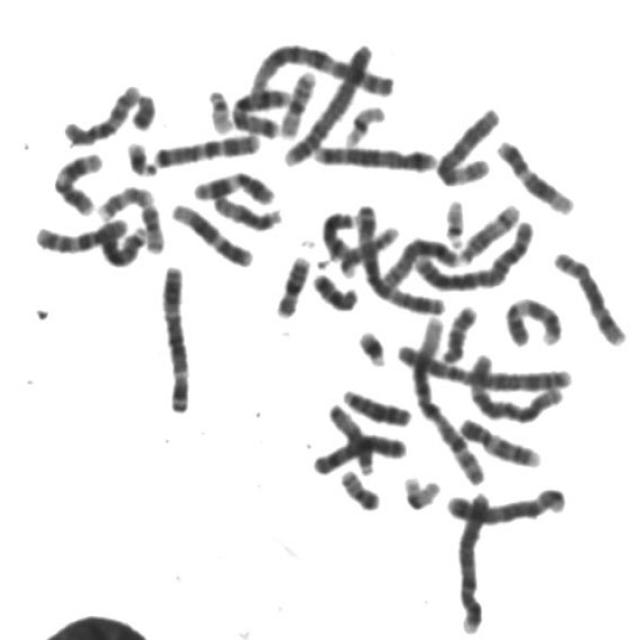A1: (405, 306, 491, 488), (245, 36, 399, 101)
A2: (409, 210, 538, 294), (392, 335, 578, 393)
A3: (350, 195, 450, 317), (156, 255, 196, 416)
B4: (278, 33, 380, 167), (450, 484, 498, 636)
B5: (441, 478, 572, 527), (308, 135, 441, 174)
C10: (57, 75, 146, 148), (30, 210, 134, 256)
C11: (48, 144, 108, 217), (187, 163, 279, 206)
C12: (491, 130, 578, 217), (166, 194, 257, 268)
C6: (463, 344, 568, 426), (432, 98, 504, 187)
C7: (148, 124, 264, 170), (226, 80, 296, 138)
C8: (548, 242, 631, 348), (377, 228, 464, 290)
C9: (452, 410, 544, 470), (500, 288, 567, 348)
D13: (337, 380, 416, 428), (98, 218, 149, 272)
D14: (454, 194, 524, 266), (316, 202, 362, 264)
D15: (324, 396, 379, 476), (207, 186, 287, 232)
E16: (276, 62, 319, 138), (270, 248, 314, 319)
E17: (335, 217, 404, 279), (93, 178, 158, 222)
E18: (436, 297, 482, 366), (307, 265, 363, 312)
F19: (338, 96, 389, 148), (398, 467, 445, 513)
F20: (334, 462, 384, 512), (136, 197, 168, 255)
G21: (352, 321, 391, 368), (121, 134, 161, 178)
G22: (202, 80, 236, 135), (439, 190, 470, 250)
X: (307, 426, 410, 476)
Y: (126, 85, 160, 131)
